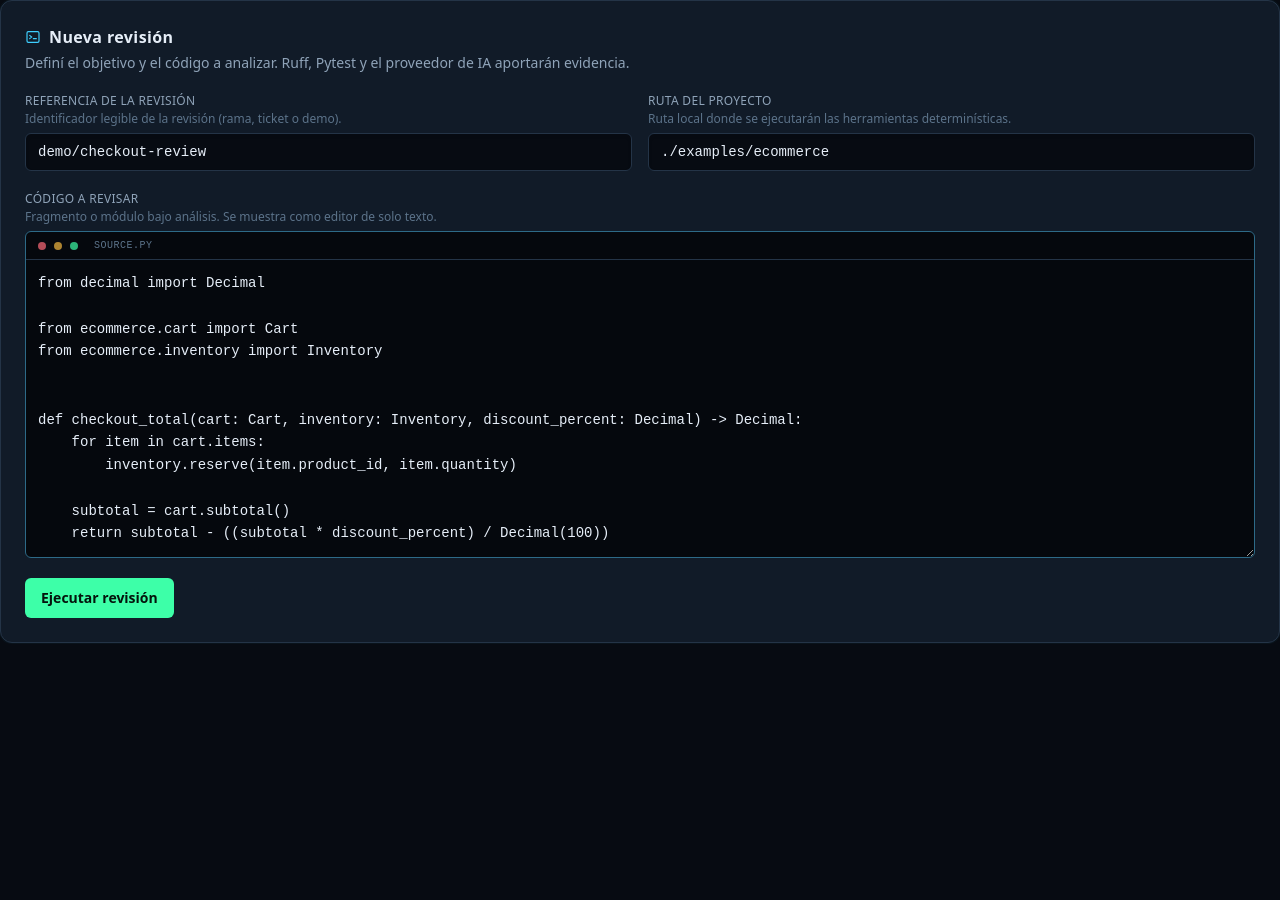
it: ReviewForm › does not submit when a required field is cleared
Clear the field labelled "Referencia de la revisión". click: x=328, y=152
box: [25,133,632,171]
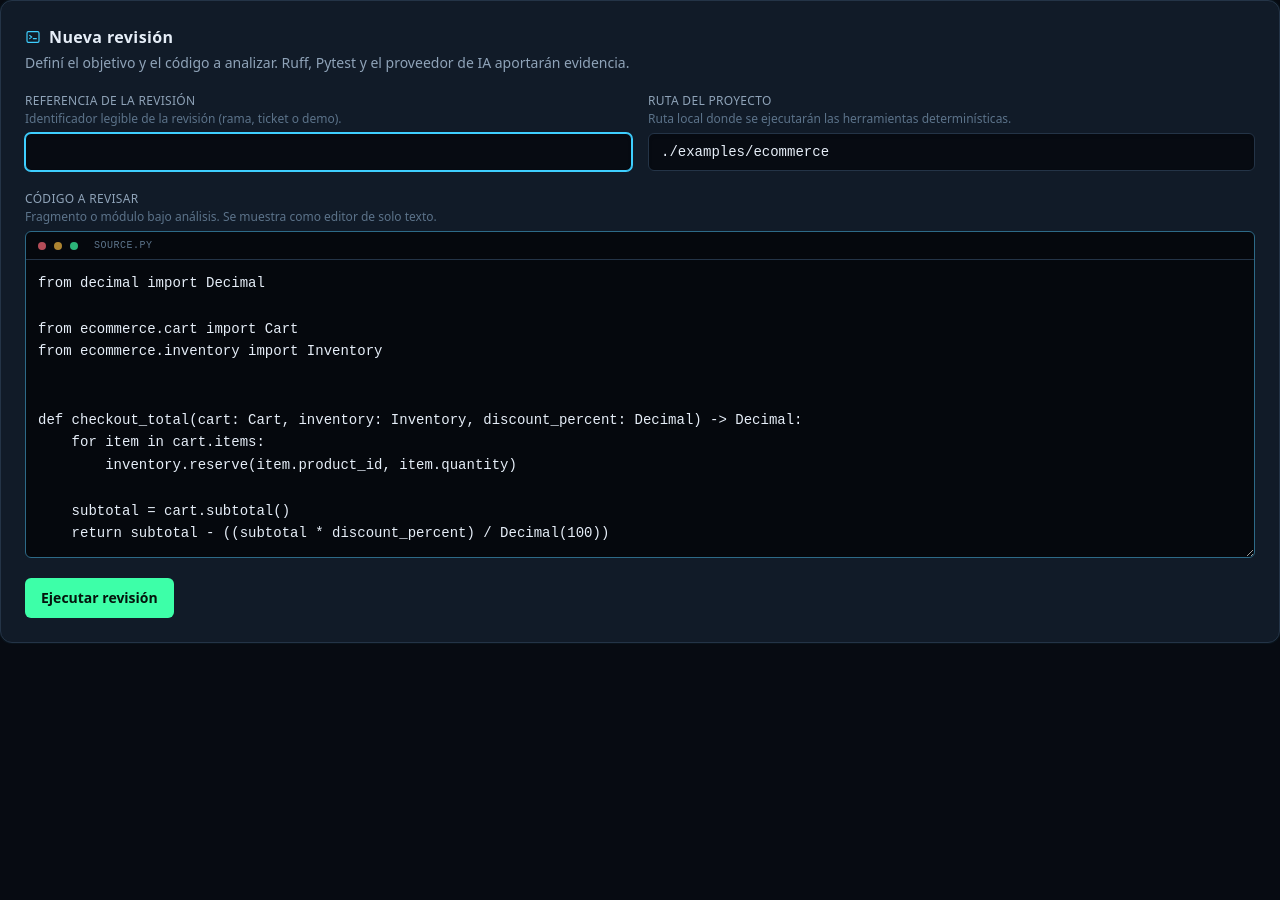
Click the button "Ejecutar revisión". click: x=99, y=598
box: [25,578,174,618]
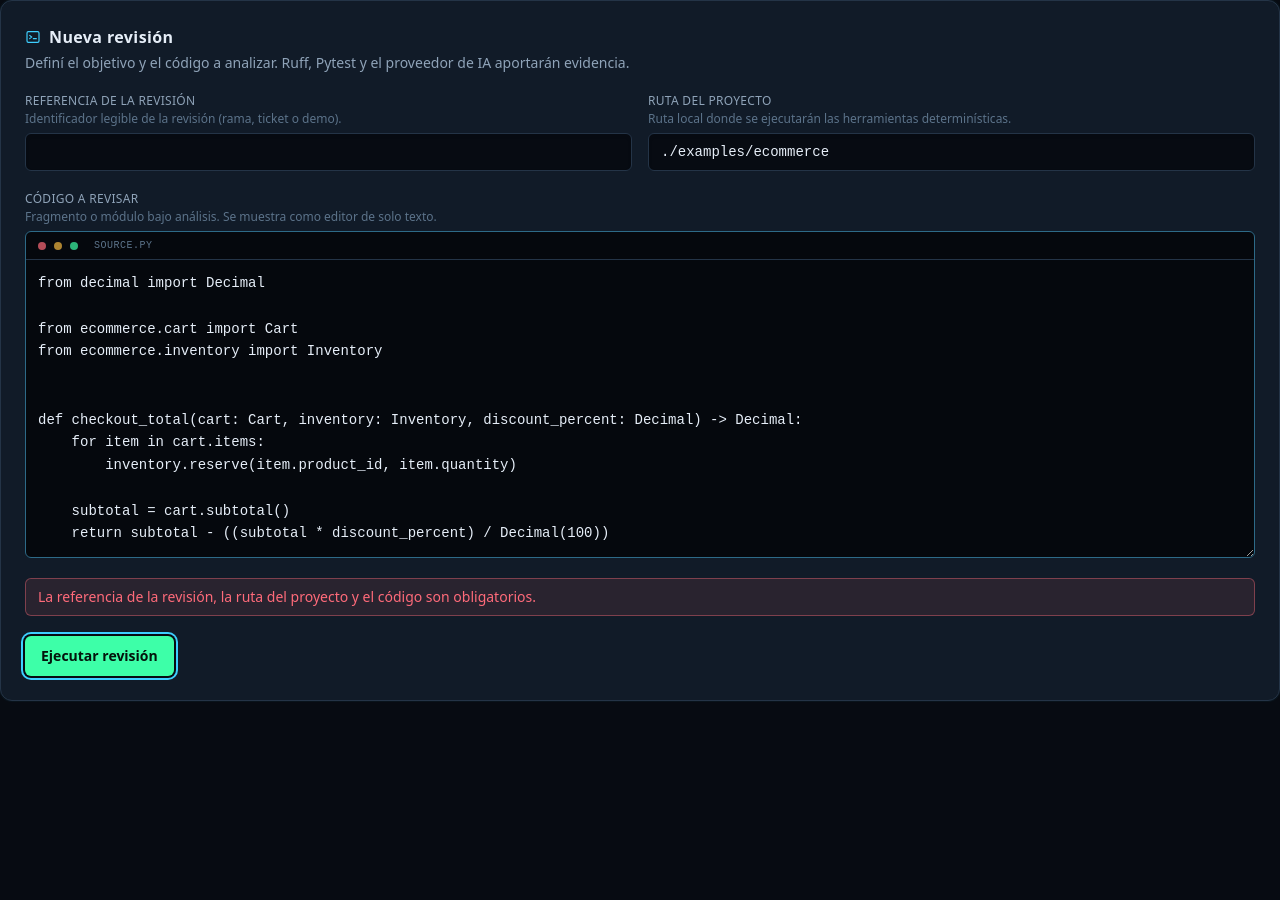
Check: the message shows "obligatorios", box [38,587,536,606]
